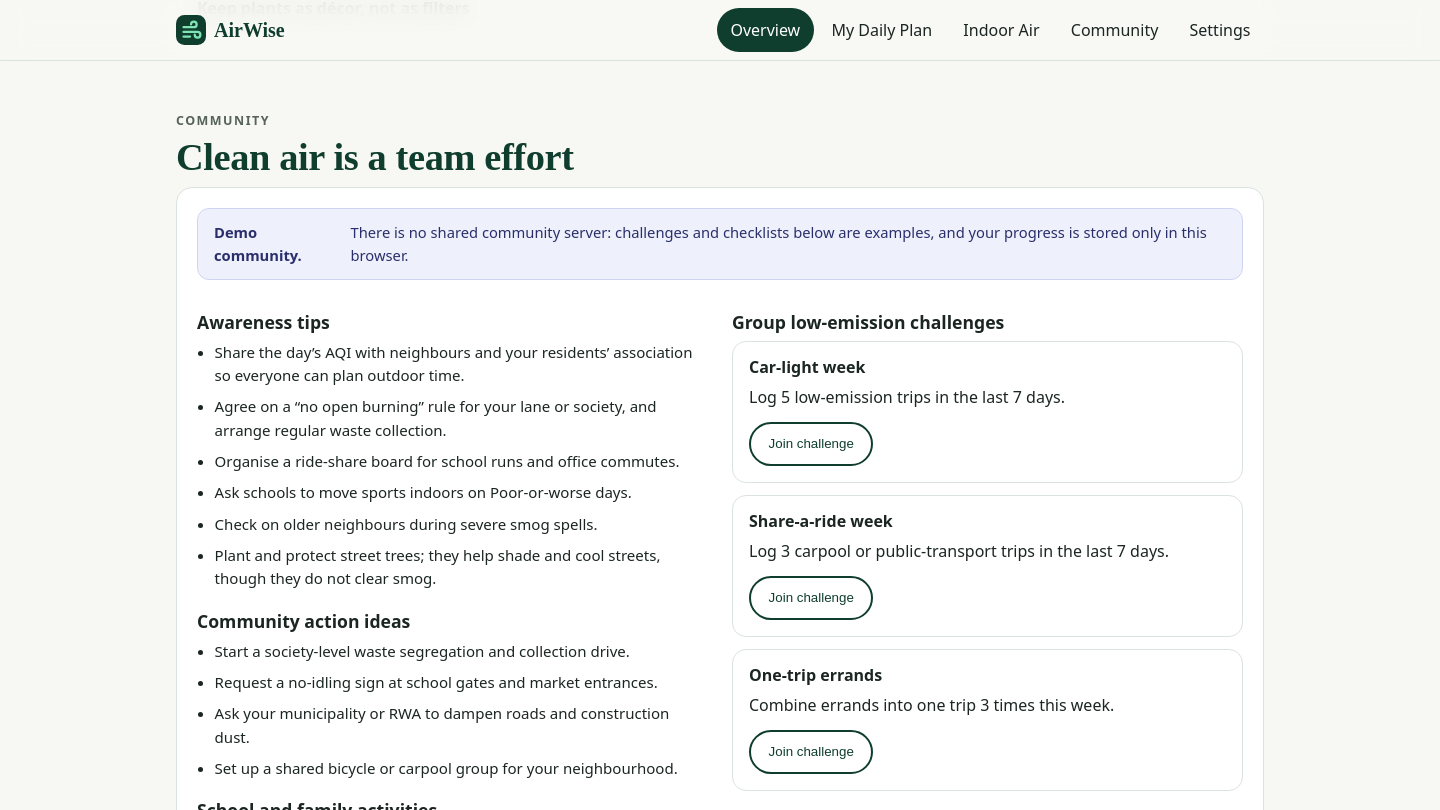
Scenario: community and settings › joins a challenge and ticks the checklist
(page scrolled)
Click the button "Join challenge" below "Car-light week" at (811, 444), box x1=749 y1=422 x2=873 y2=466
(page scrolled)
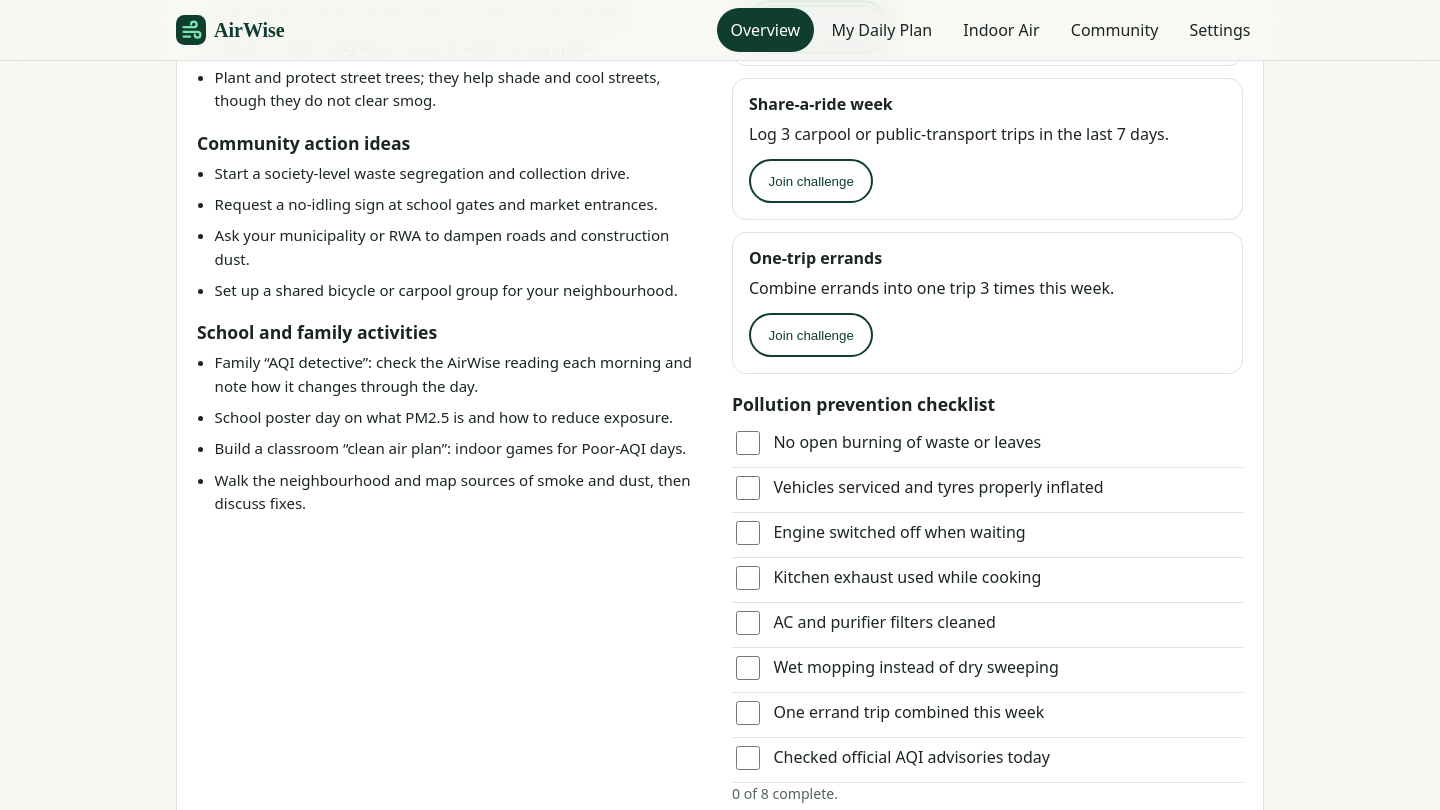
Click the checkbox labelled "No open burning of waste or leaves" at (748, 443), box x1=736 y1=431 x2=760 y2=455
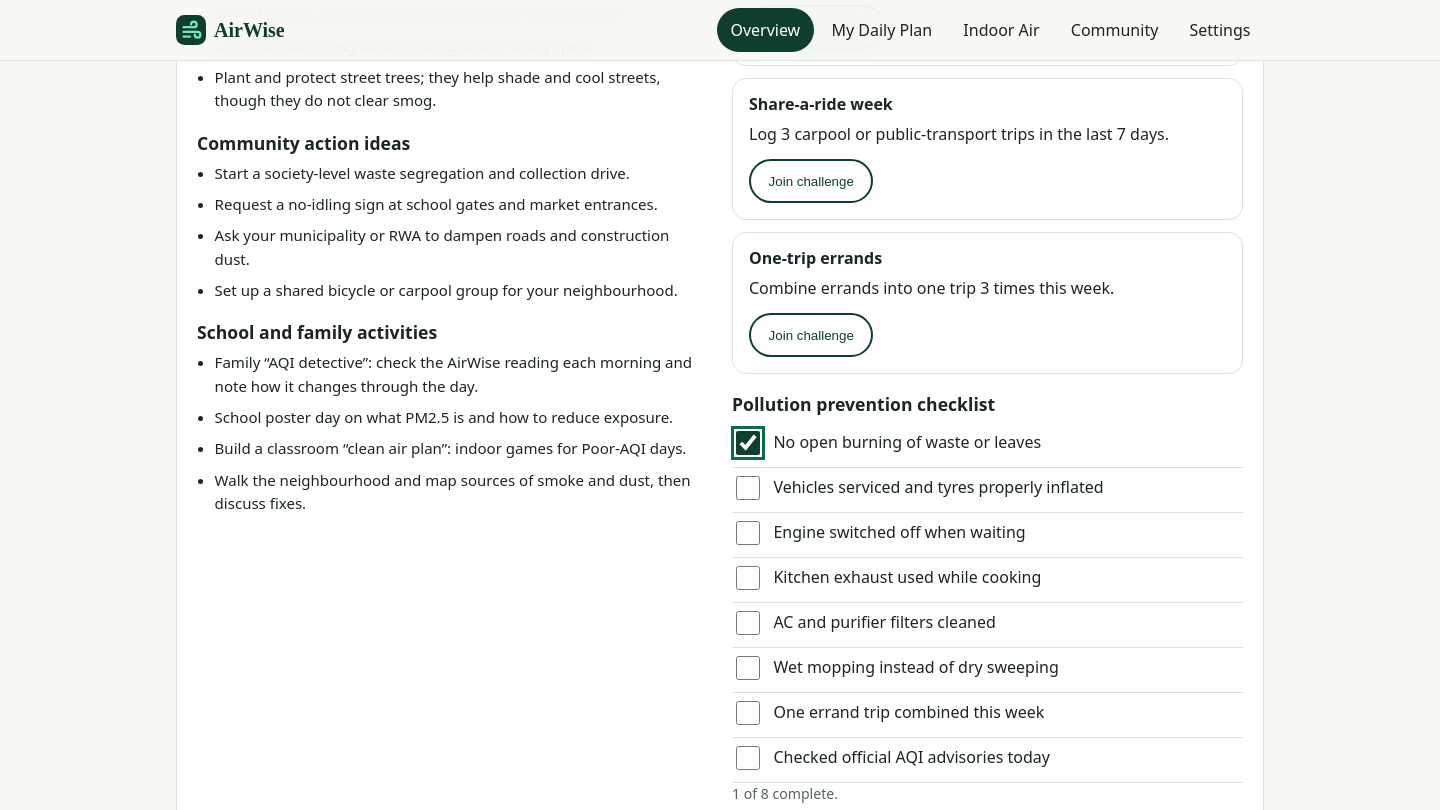
Expected: the text "1 of 8 complete." is shown, x1=732 y1=784 x2=838 y2=803
